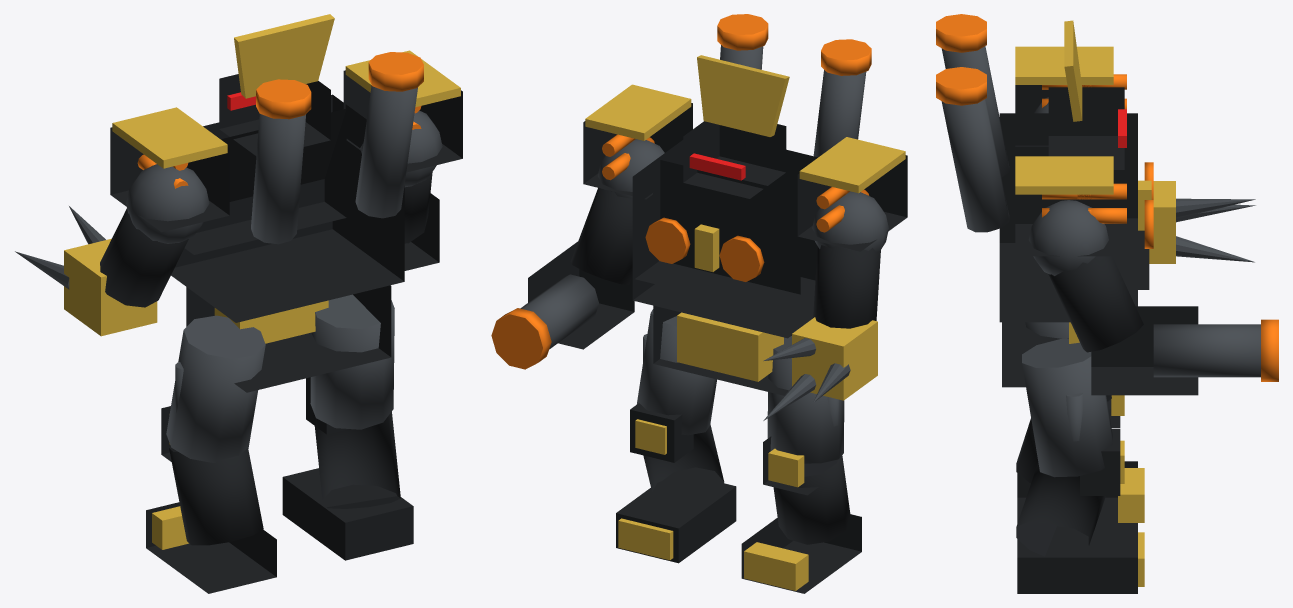
The model's file is Robot_Leader.obj.
The picture shows the model from 3 angles, left to right: view 1: azimuth 30°, elevation 25°; view 2: azimuth 150°, elevation 25°; view 3: azimuth 270°, elevation 25°; orthographic projection. The views are drawn at different scales.
Parts seen in each view (by area): view 1: Robot_Leader; view 2: Robot_Leader; view 3: Robot_Leader.
Boxes of the visible parts, box(x1,y1,x2,y2) form: Robot_Leader: box(15, 14, 462, 593); Robot_Leader: box(491, 14, 907, 593); Robot_Leader: box(936, 14, 1278, 593).
Bounding box in the file's own units: 1.69 × 2.48 × 1.53.
